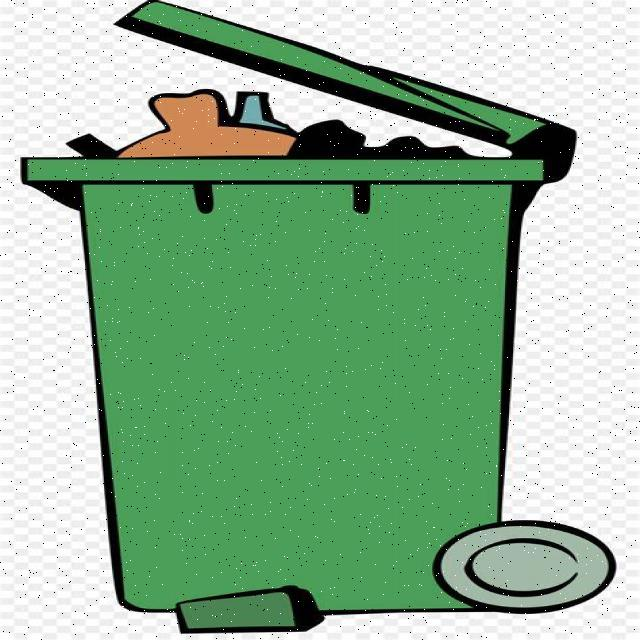garbage container: (1, 4, 612, 632)
